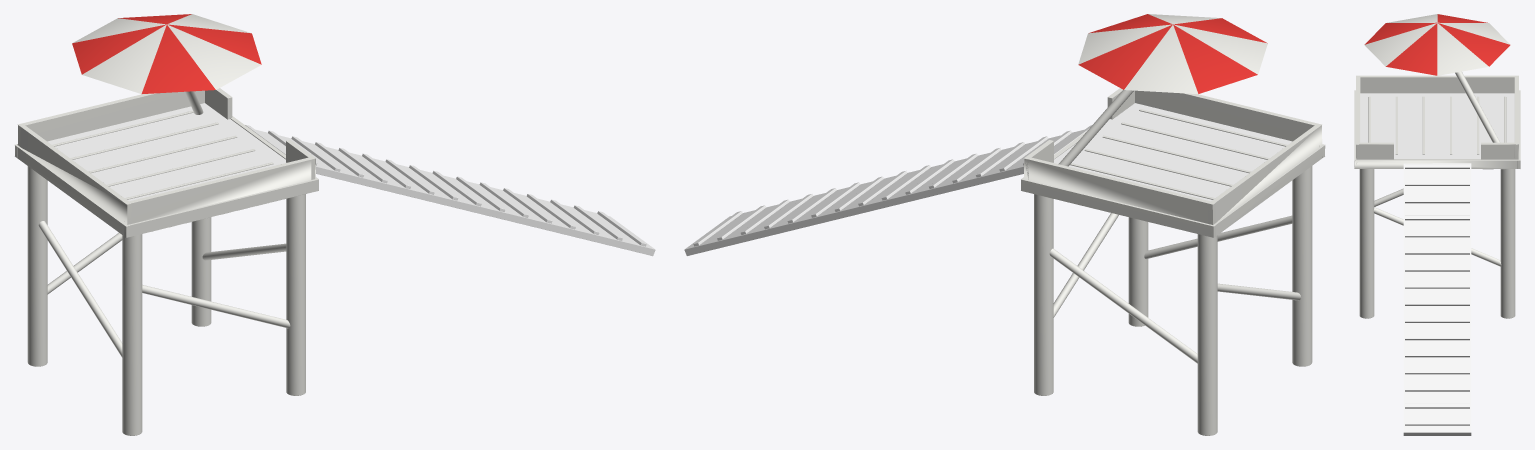
File: lookout_11_canopy.glb
The picture shows the model from 3 angles, left to right: view 1: azimuth 30°, elevation 25°; view 2: azimuth 150°, elevation 25°; view 3: azimuth 270°, elevation 25°; orthographic projection. The views are drawn at different scales.
Visible parts, largest first — view 1: lookout_11_canopy.001; view 2: lookout_11_canopy.001; view 3: lookout_11_canopy.001.
Boxes of the visible parts, x1,y1,x2,y2 form: lookout_11_canopy.001: [14, 14, 655, 435]; lookout_11_canopy.001: [684, 14, 1325, 435]; lookout_11_canopy.001: [1354, 14, 1520, 435].
Bounding box in the file's own units: 35.73 × 21.4 × 12.28.
